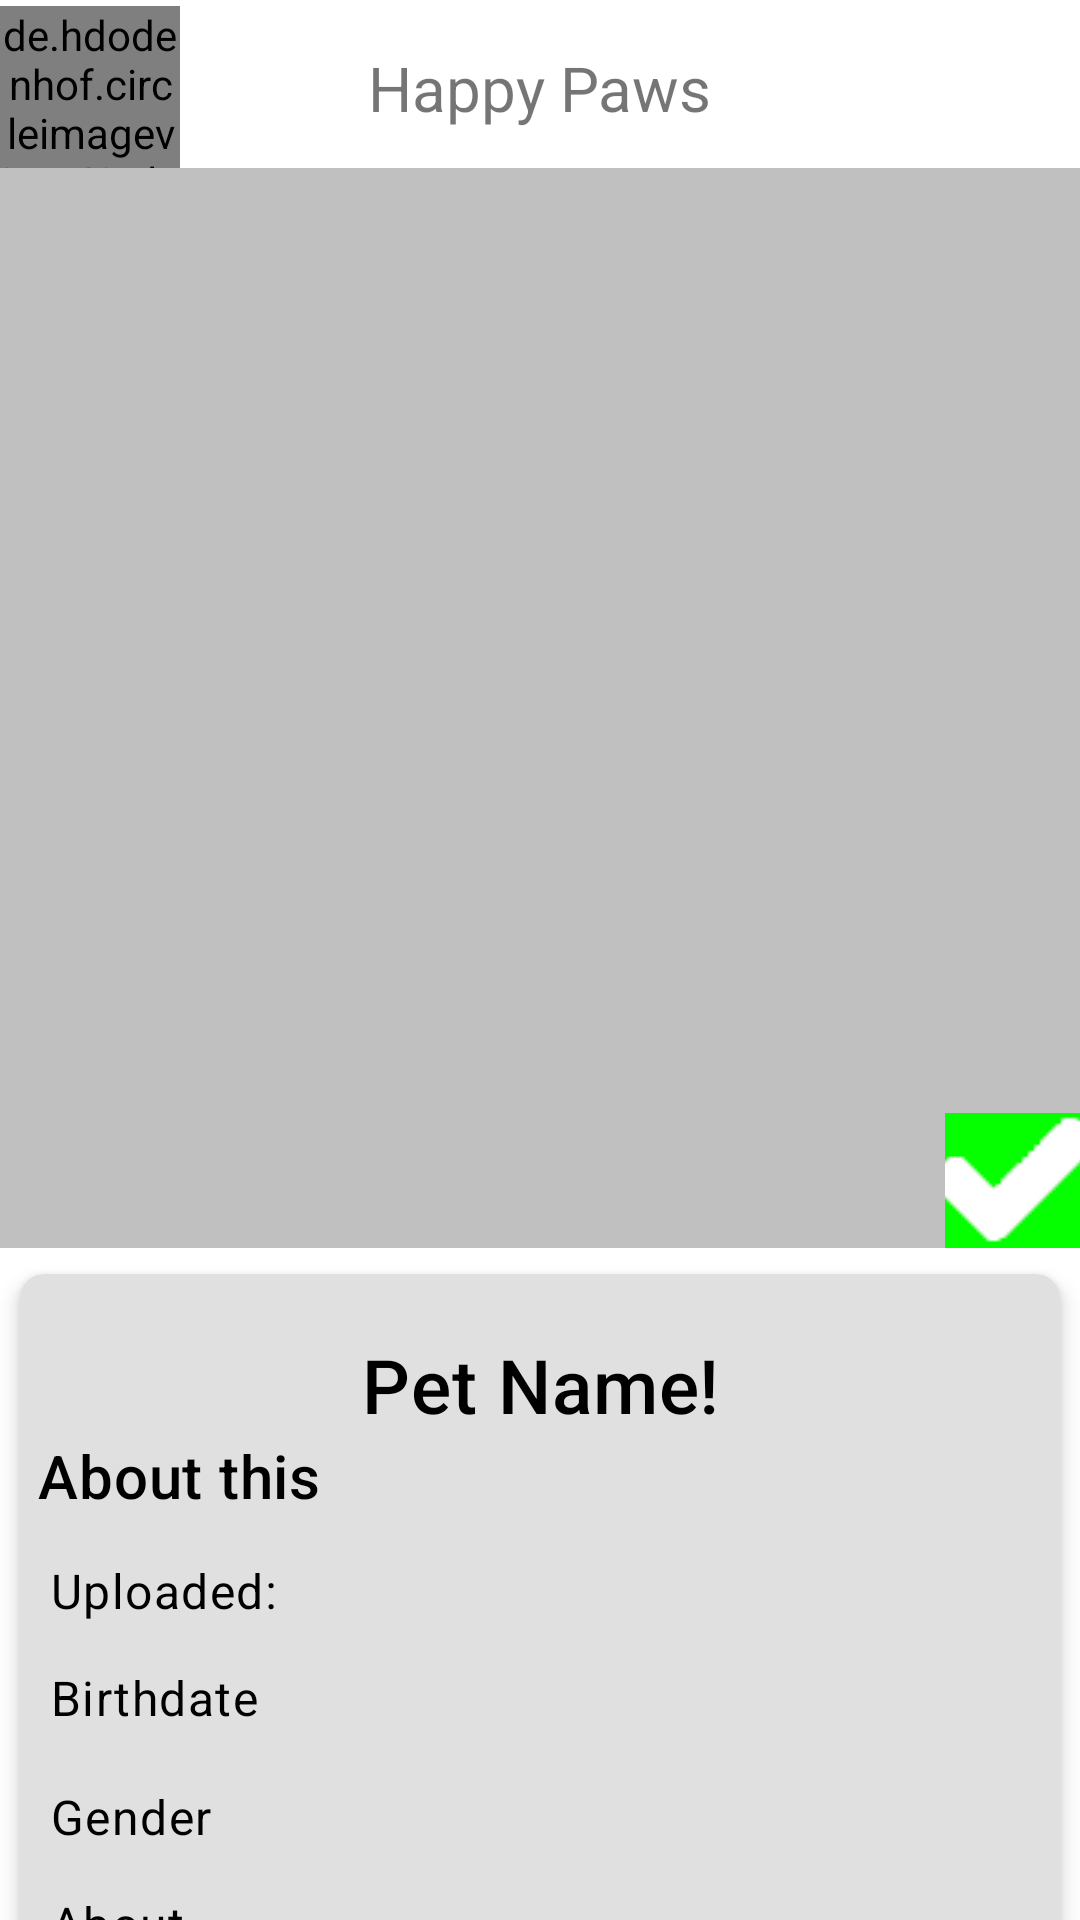

Screen size 1080 x 1920. Icon name, then its box in pixels as (x1, y1, x2, y2):
Swipe right: (945, 1113, 1080, 1248)
